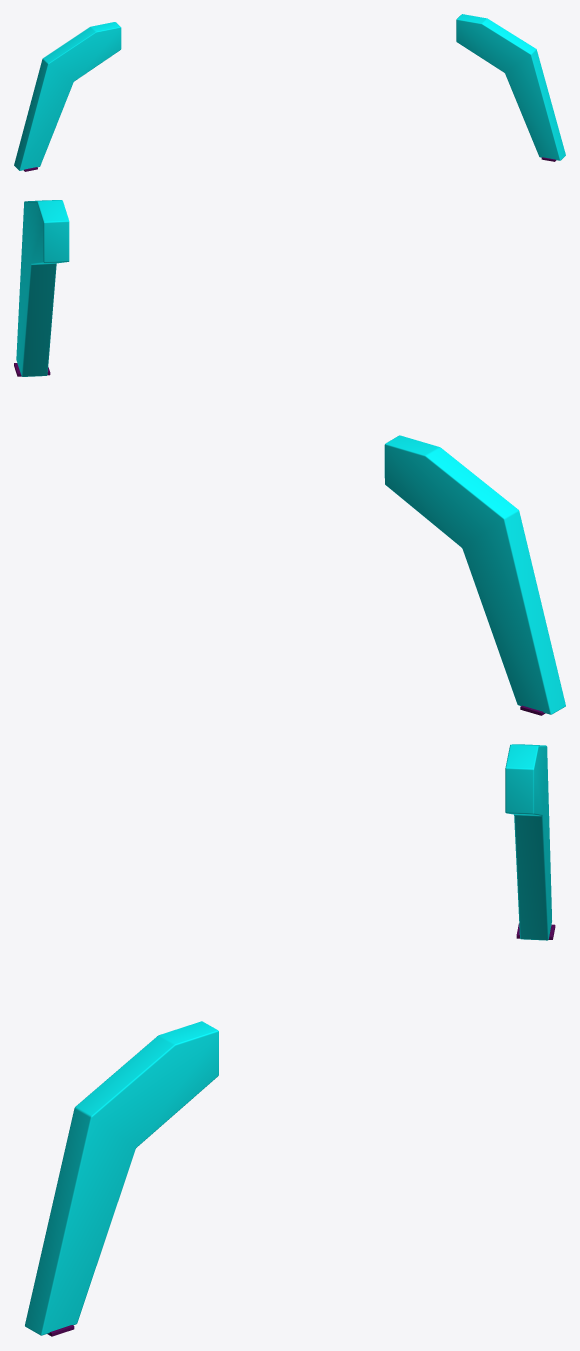
File: levante_leg_longchair_mirror.gltf
3 views of the same model, one above another, from view 1: azimuth 30°, elevation 25°; view 2: azimuth 150°, elevation 25°; view 3: azimuth 270°, elevation 25° (orthographic). The views are drawn at different scales.
Parts seen in each view (by area): view 1: leg_longchair001; view 2: leg_longchair001; view 3: leg_longchair001.
Boxes of the visible parts, bbox=[...] form: leg_longchair001: bbox=[14, 14, 565, 171]; leg_longchair001: bbox=[14, 200, 565, 715]; leg_longchair001: bbox=[25, 744, 555, 1336].
Bounding box in the file's own units: 0.8438 × 0.2361 × 0.4552.
